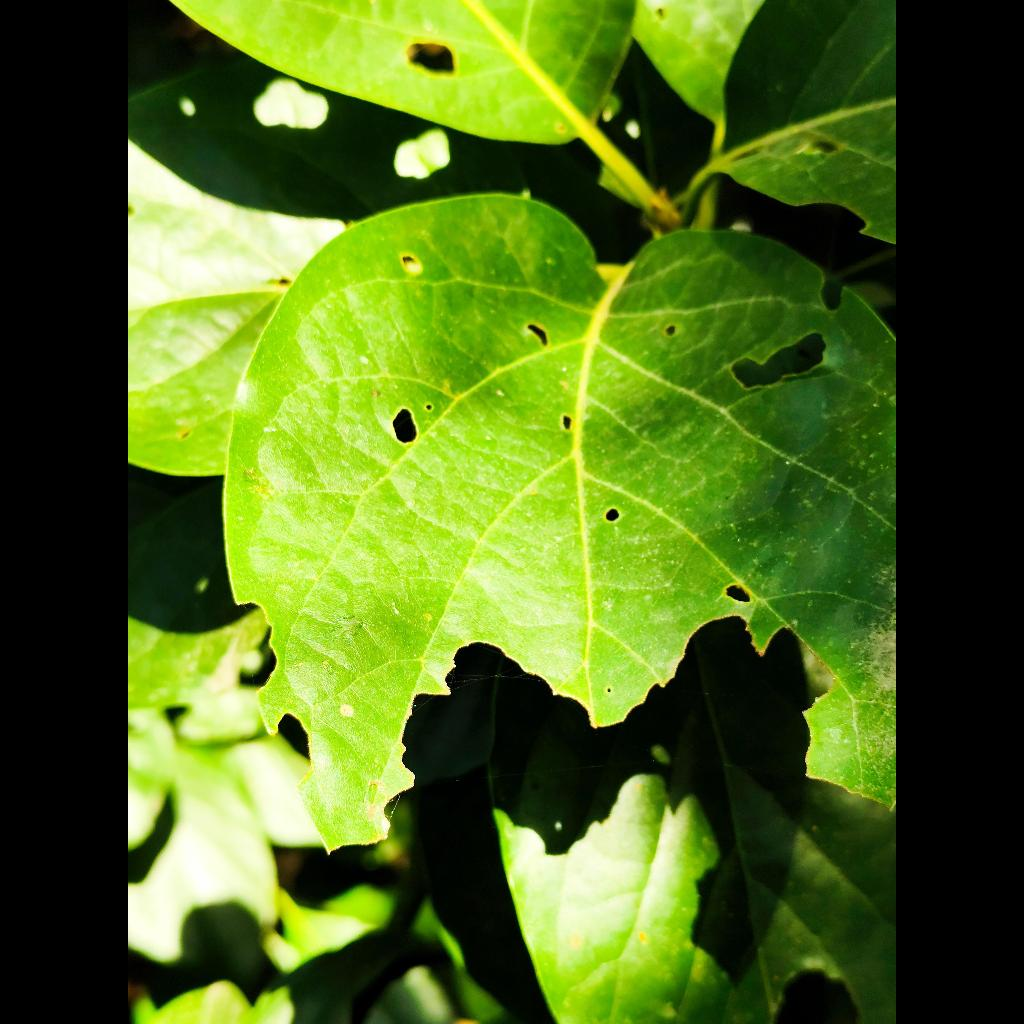plaga: (225, 195, 896, 847)
